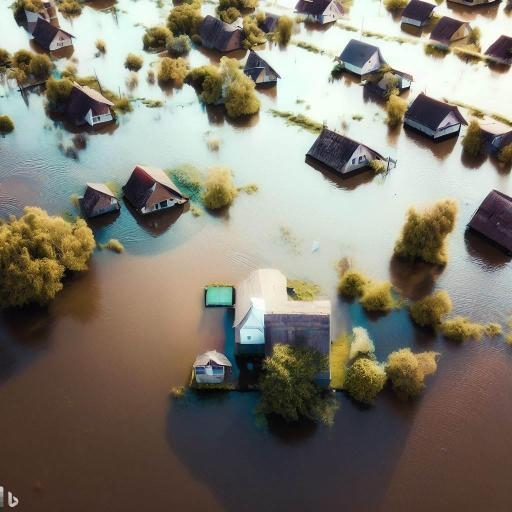flood: (0, 0, 512, 512), (296, 0, 512, 120), (187, 45, 224, 67), (264, 0, 299, 15), (232, 49, 248, 59)
house: (230, 266, 338, 348), (121, 160, 190, 218), (306, 128, 379, 176), (465, 188, 511, 264), (406, 92, 462, 144), (64, 80, 119, 130), (76, 180, 122, 222), (340, 39, 384, 82), (240, 49, 282, 93), (201, 15, 245, 53), (34, 14, 75, 54), (399, 0, 435, 32), (297, 0, 338, 26), (449, 0, 505, 18), (430, 17, 466, 44)
